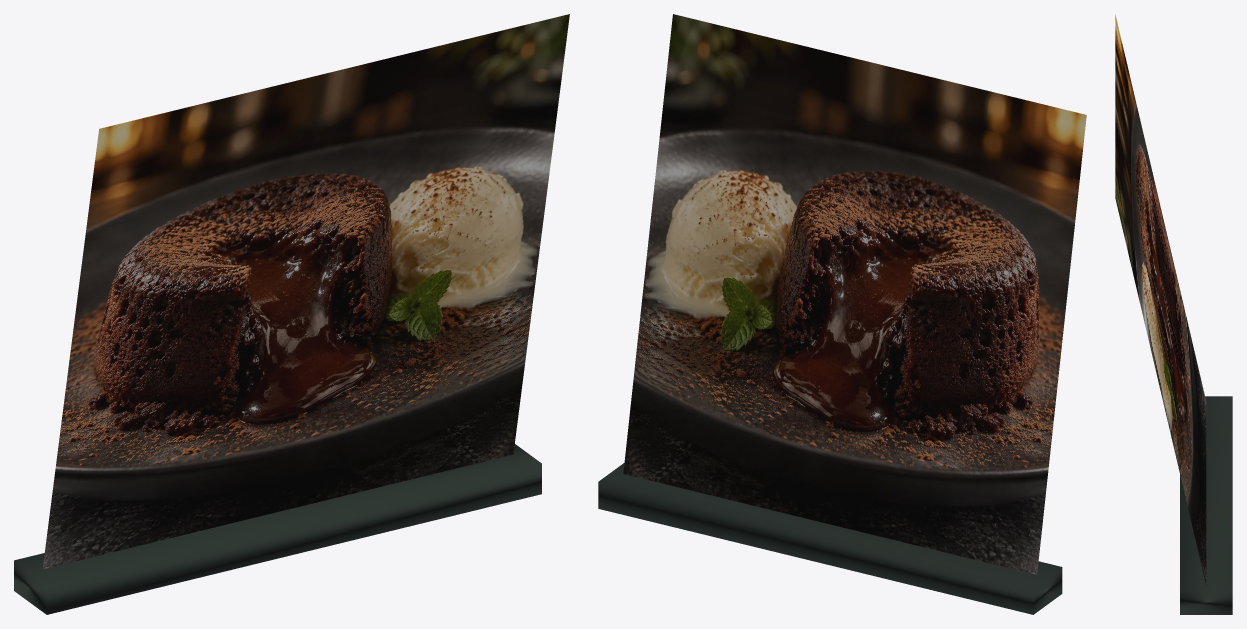
File: dessert.glb
The picture shows the model from 3 angles, left to right: view 1: azimuth 30°, elevation 25°; view 2: azimuth 150°, elevation 25°; view 3: azimuth 270°, elevation 25°; orthographic projection. The views are drawn at different scales.
Visible parts, largest first — view 1: Dessert photo, Tabletop base; view 2: Dessert photo, Tabletop base; view 3: Dessert photo, Tabletop base.
Part boxes in pixels (left/top/right/bottom): Dessert photo: left=42, top=14, right=569, bottom=569; Tabletop base: left=14, top=444, right=541, bottom=614; Dessert photo: left=623, top=14, right=1086, bottom=574; Tabletop base: left=598, top=463, right=1062, bottom=614; Dessert photo: left=1115, top=14, right=1206, bottom=584; Tabletop base: left=1180, top=396, right=1232, bottom=614.
Bounding box in the file's own units: 0.305 × 0.3017 × 0.0778.
Materials: 2 (1 with a texture image).
